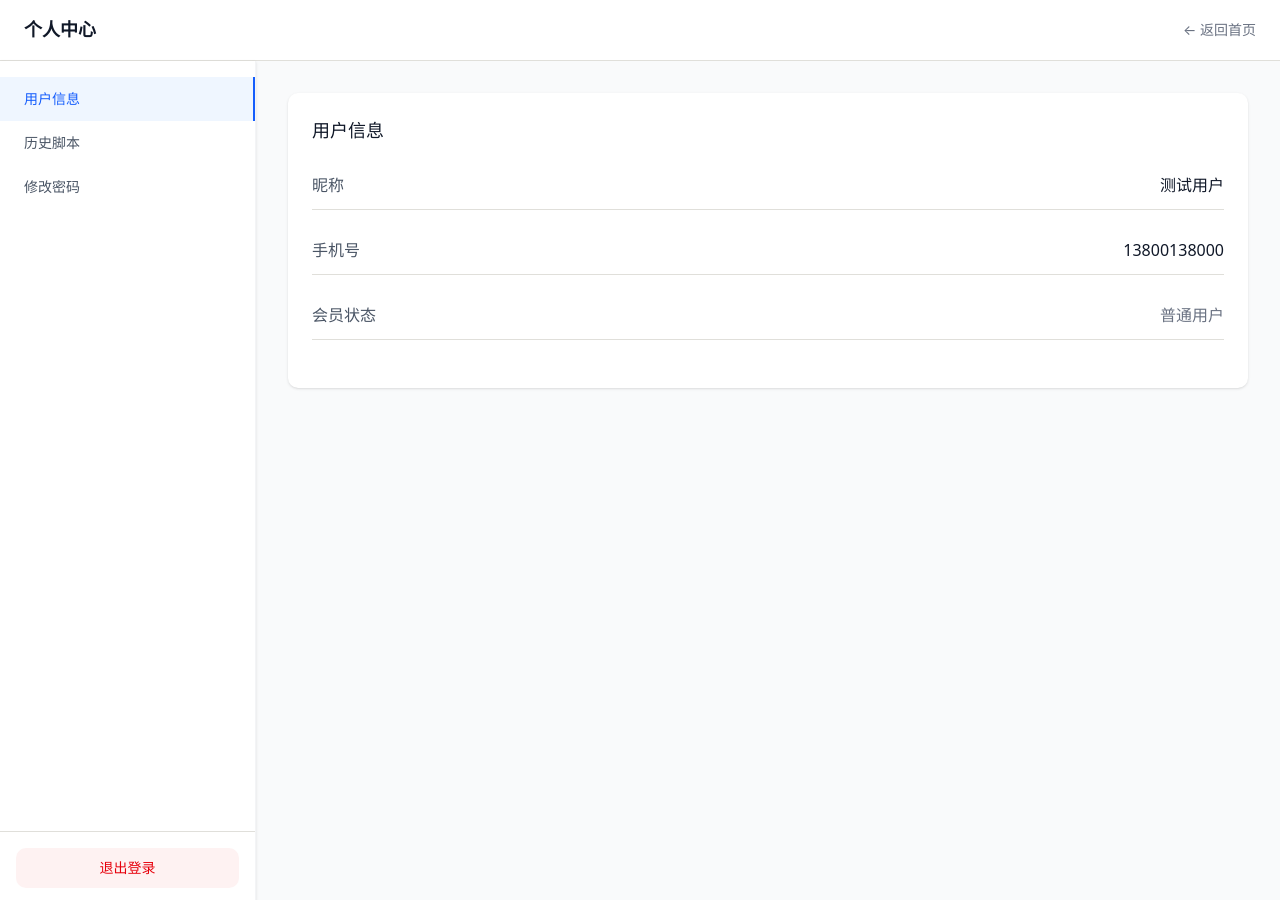
Scenario: ProfileClient › 修改密码页校验必填项
What coordinates should you click on to do the following:
click the text "修改密码"
I would click on:
 (52, 186)
Its box is top-left (24, 177), bottom-right (80, 196).
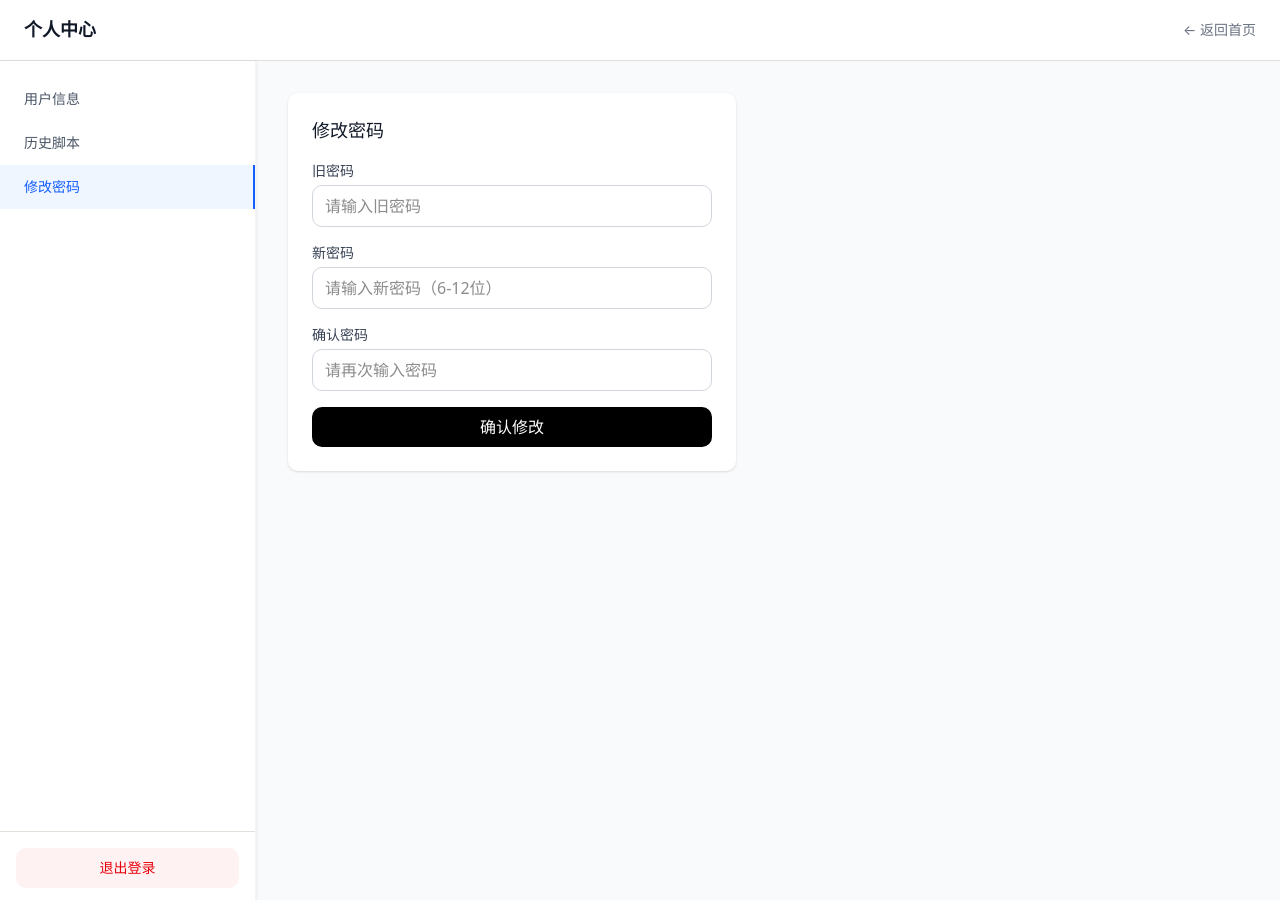
What coordinates should you click on to do the following:
click the button "确认修改"
I would click on:
 (512, 427)
Its box is top-left (312, 407), bottom-right (712, 447).
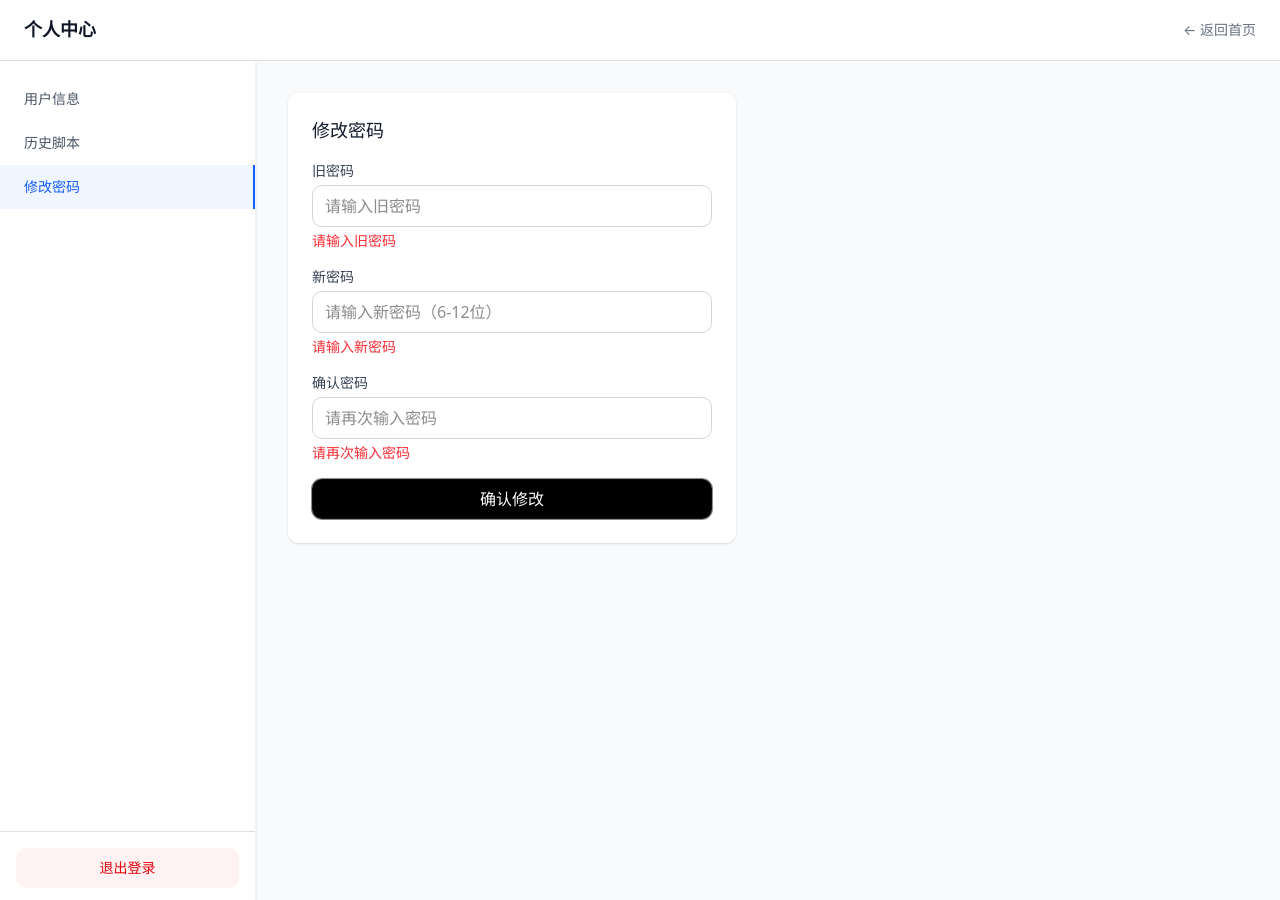
Result: the text "请输入旧密码" is shown at top-left (312, 231), bottom-right (396, 250)
Result: the text "请输入新密码" is shown at top-left (312, 337), bottom-right (396, 356)
Result: the text "请再次输入密码" is shown at top-left (312, 443), bottom-right (410, 462)
